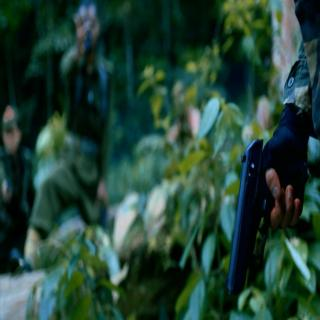gun: (224, 132, 309, 295)
